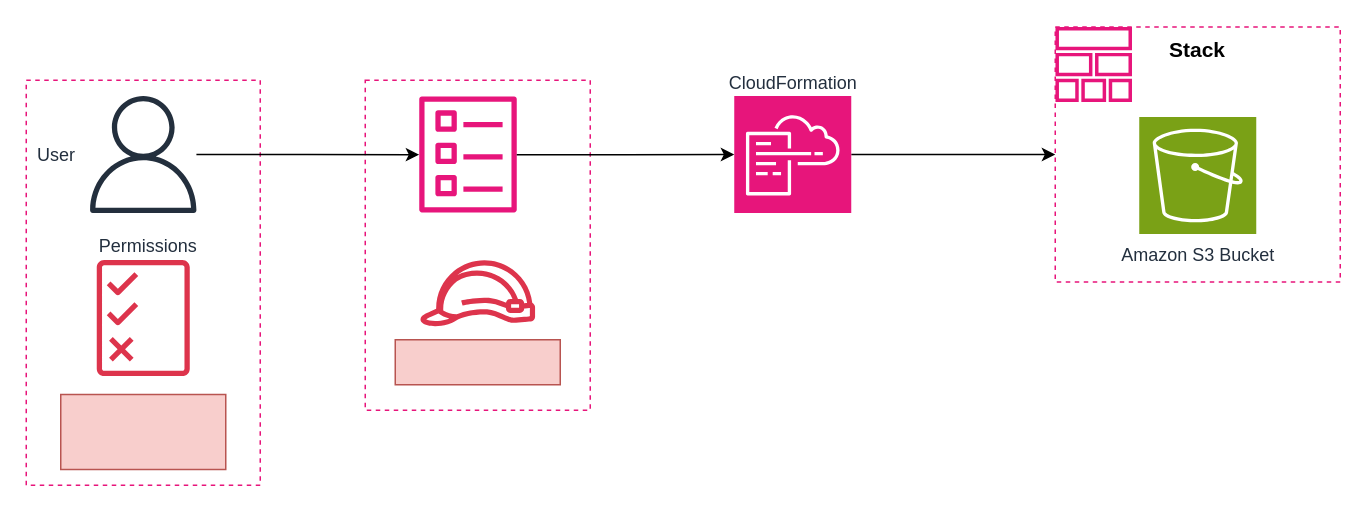
Image size: 1367x512. Some labels were removed from this diagram. The centre of each missing label's shape, as x and y in pixels:
- cloudformation:* - iam:PassRole: the point at 142,431
- s3:*Bucket: the point at 477,361
Service Role: the point at 477,293
